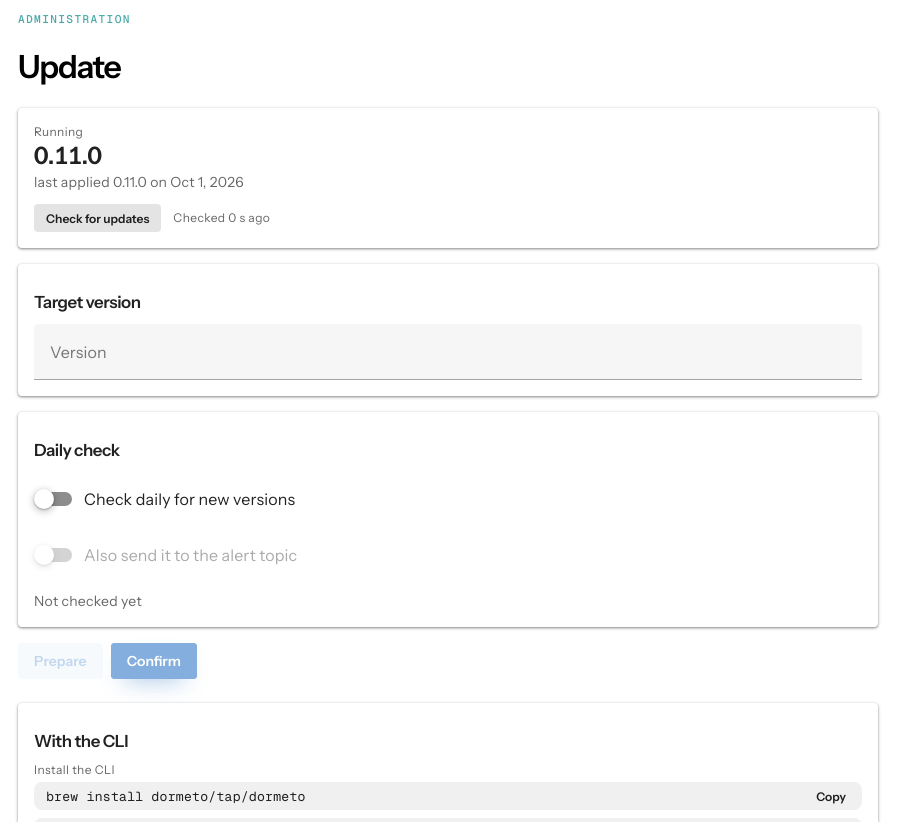
Test case: Update › the CLI card › copies a command with its button
Click the button "Copy": (822, 796) [786,786,858,806]
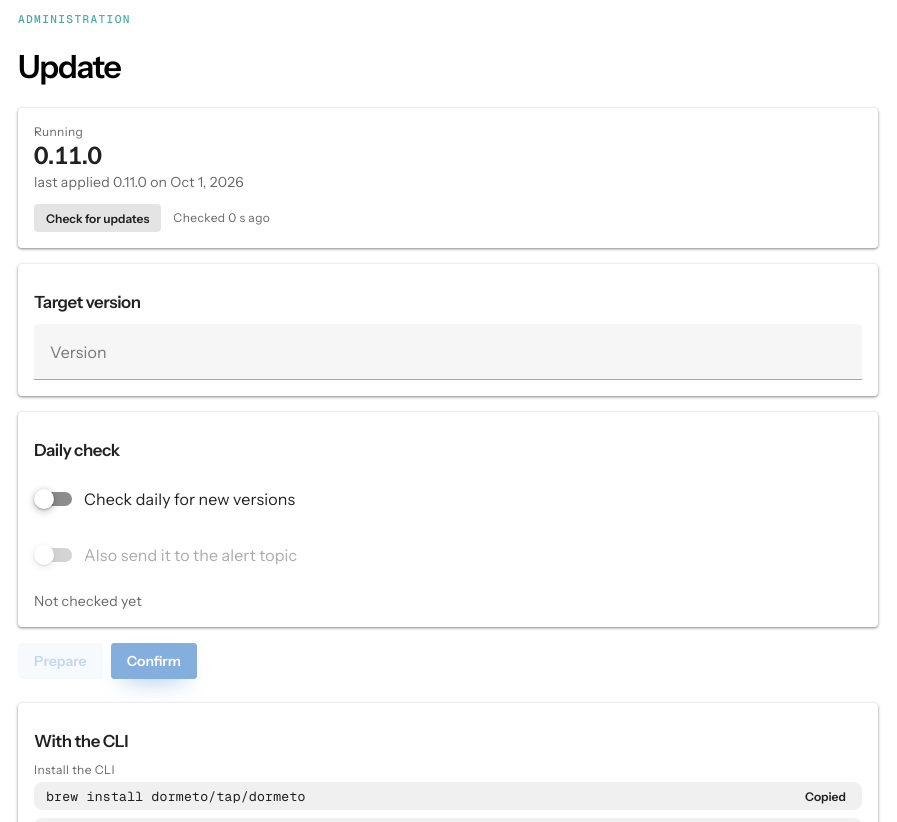
Expected: the element with class "dm-command" shows "Copied", [774,786,858,806]
